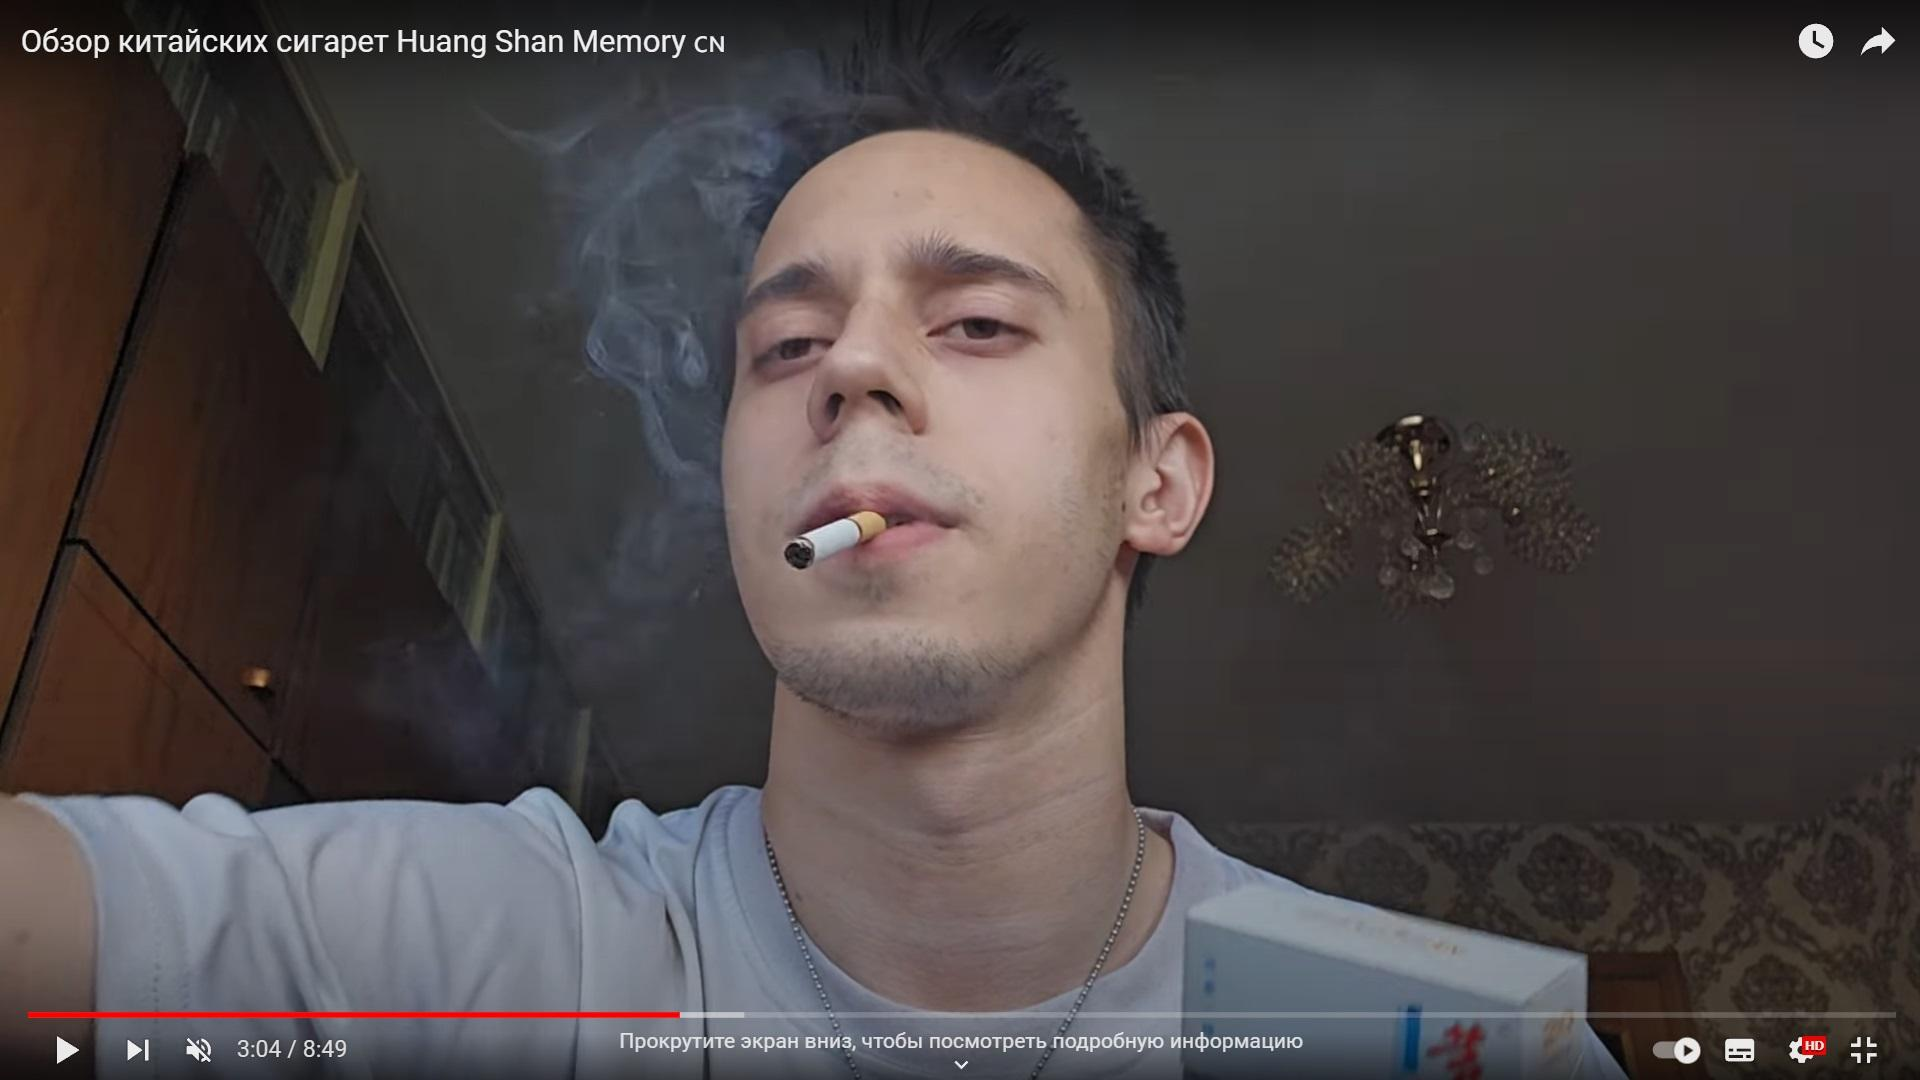cigarette: (783, 510, 885, 570)
